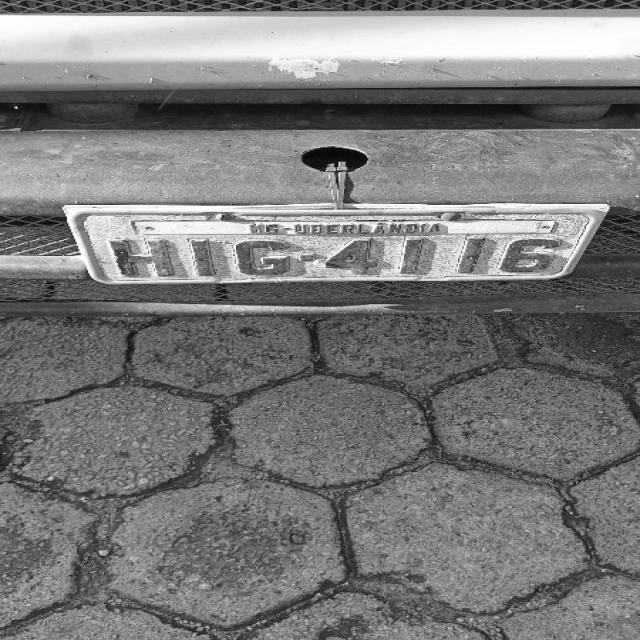placa_antiga: (72, 207, 608, 283)
